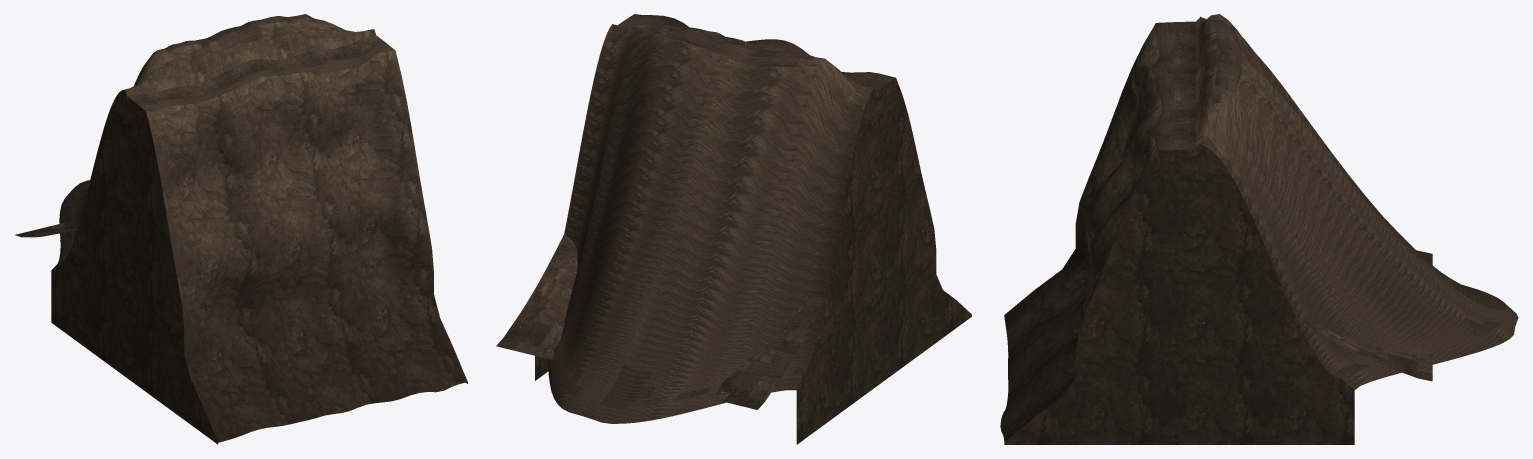
File: seacliff_straight6c_h5_v5_dead.glb
3 views of the same model, side by side, from view 1: azimuth 30°, elevation 25°; view 2: azimuth 150°, elevation 25°; view 3: azimuth 270°, elevation 25° (orthographic). The views are drawn at different scales.
Parts seen in each view (by area): view 1: seacliff_straight6c_h5; view 2: seacliff_straight6c_h5; view 3: seacliff_straight6c_h5.
Boxes of the visible parts, left/top/right/bottom form: seacliff_straight6c_h5: left=15, top=14, right=467, bottom=444; seacliff_straight6c_h5: left=496, top=14, right=971, bottom=444; seacliff_straight6c_h5: left=1000, top=14, right=1518, bottom=444.
Size of the model in its own units: 6 by 7.15 by 10.29.
2 materials, 2 textured.
